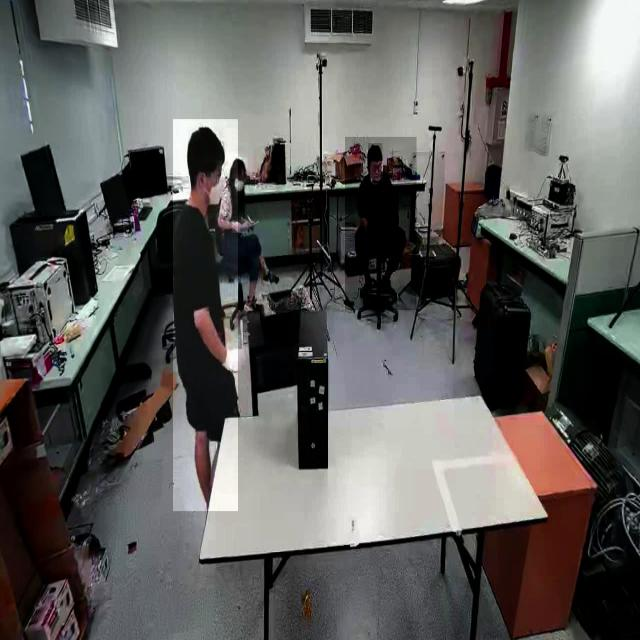face_mask: (206, 163, 224, 216), (234, 168, 246, 196)
face_nomask: (369, 161, 383, 181)
glasses: (367, 158, 383, 174)
hand_glove: (221, 342, 245, 385)
hand_noglove: (232, 220, 248, 233)
head_nohelmet: (187, 126, 226, 159), (368, 143, 382, 160), (231, 157, 247, 169)
person: (172, 119, 238, 512), (344, 137, 416, 311), (217, 157, 282, 305)
shoes: (262, 264, 282, 290), (356, 274, 376, 300), (245, 294, 261, 318), (382, 276, 397, 295)
